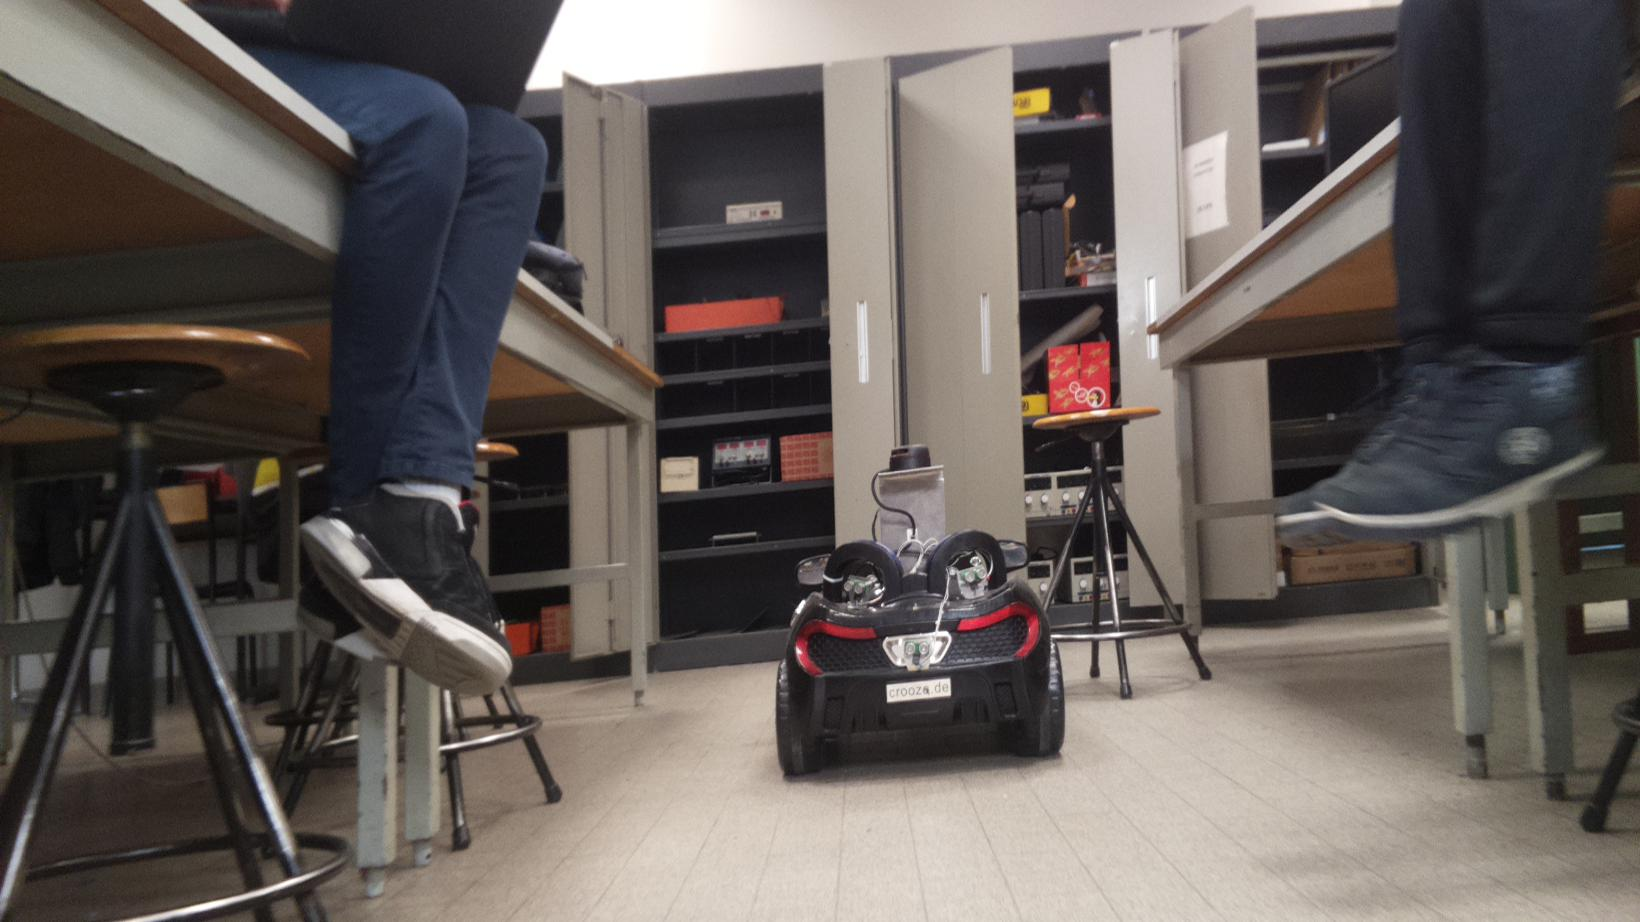big: (772, 527, 1076, 782)
